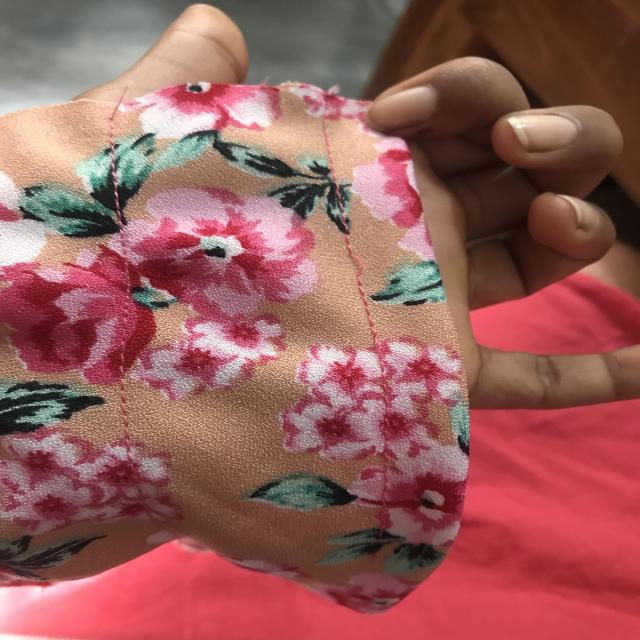good: (113, 372, 147, 435)
skip: (338, 249, 377, 279)
